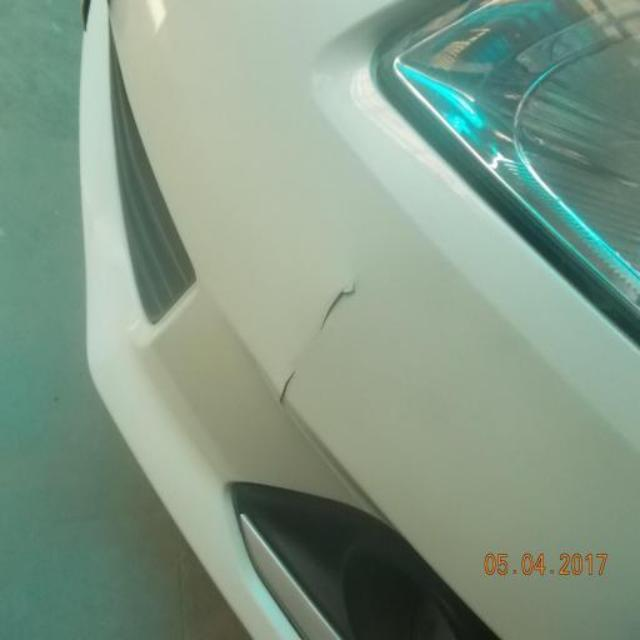crack: (318, 276, 355, 333), (275, 365, 303, 412)
